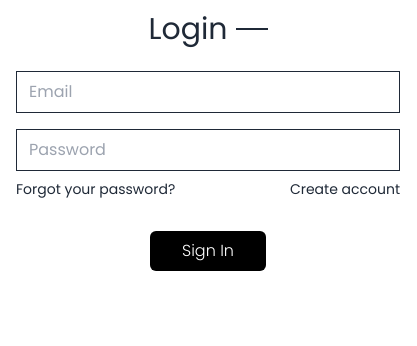
Login Component › switches to sign up mode when "Create account" is clicked
Note: Click on "Create account" to switch mode
Step 1. Click the text "Create account" → [345, 189], box [290,179,400,199]
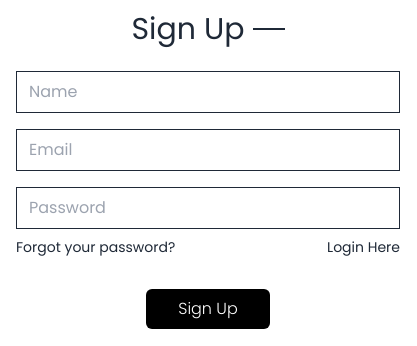
Expected: the field with placeholder "Name" is shown, [16,71,400,113]
Expected: the button "Sign Up" is shown, [146,289,270,329]
